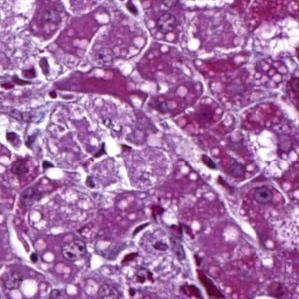ballooning: (243, 14, 296, 87)
